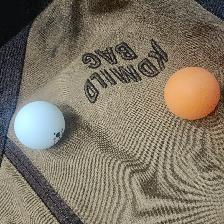WhiteBall: (13, 100, 64, 148)
YellowBall: (164, 66, 219, 120)
